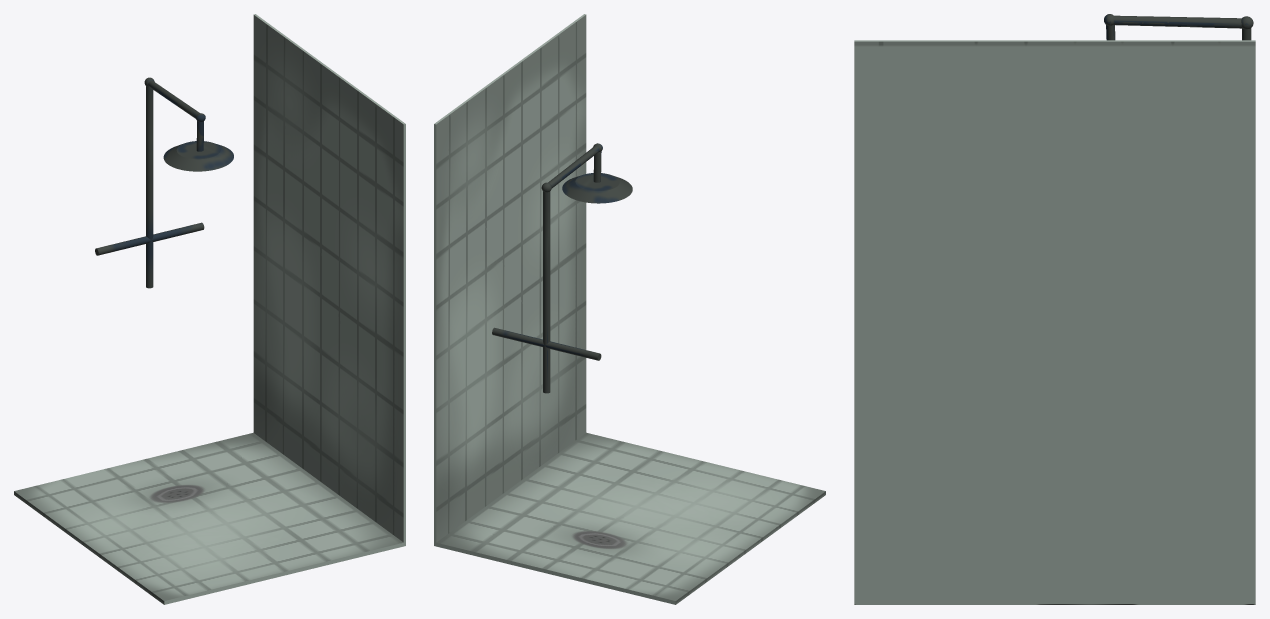
File: Ducha.fbx
The picture shows the model from 3 angles, left to right: view 1: azimuth 30°, elevation 25°; view 2: azimuth 150°, elevation 25°; view 3: azimuth 270°, elevation 25°; orthographic projection. The views are drawn at different scales.
Parts seen in each view (by area): view 1: Cristal, Cube.001, Cylinder; view 2: Cristal, Cube.001, Cylinder; view 3: Cristal, Cylinder.
Part boxes in pixels (x1,y1,x2,y2): Cristal: (253,14,405,542); Cube.001: (14,432,405,604); Cylinder: (95,77,233,288); Cristal: (434,14,586,545); Cube.001: (434,432,825,604); Cylinder: (492,143,632,393); Cristal: (854,40,1255,604); Cylinder: (1104,14,1253,40).
Size of the model in its own units: 387 by 646 by 417.
